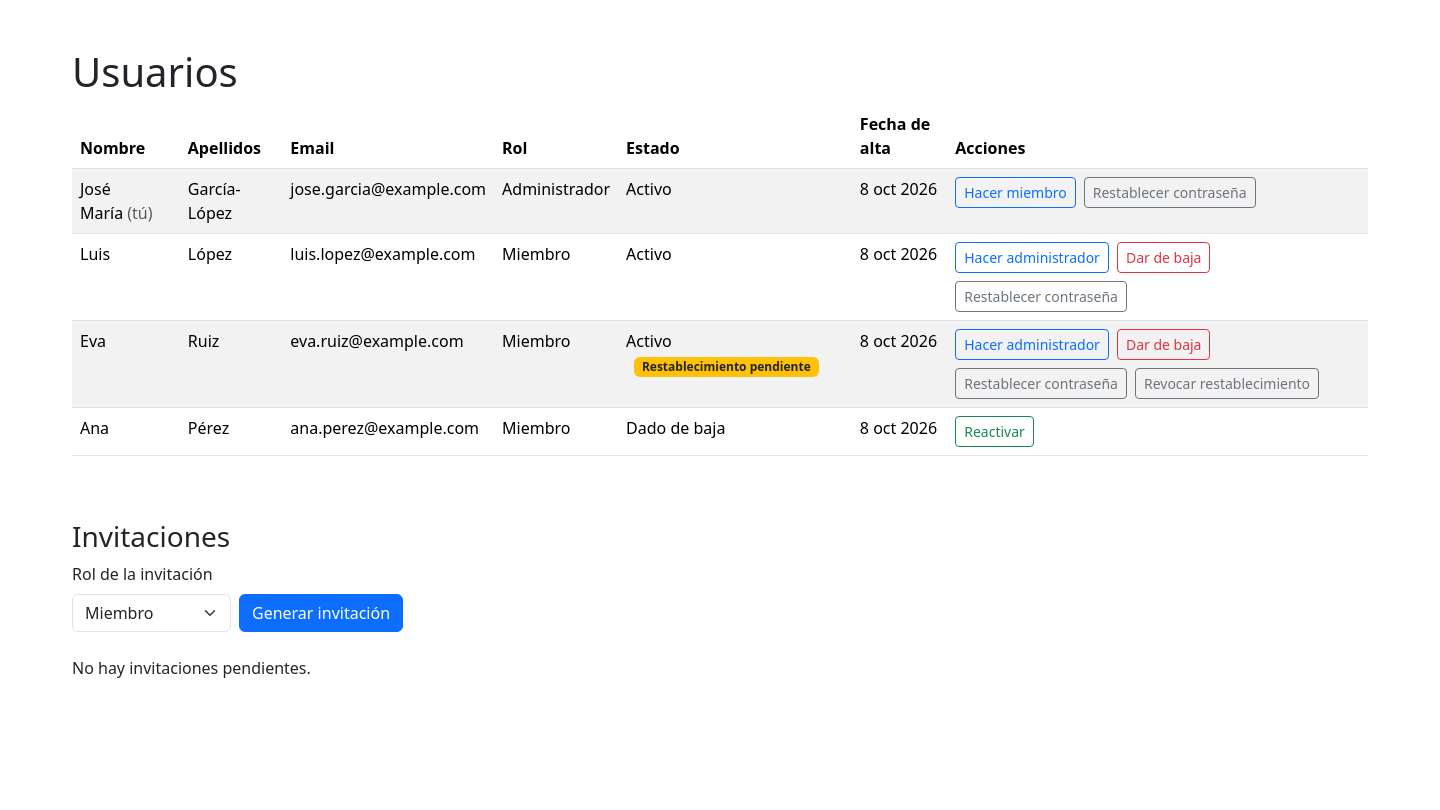
Test: UsersPage password reset › generating the link › warns and reloads the list for a 404, without emptying it
Click the 2nd button "Restablecer contraseña": (1041, 296) [955, 281, 1127, 312]
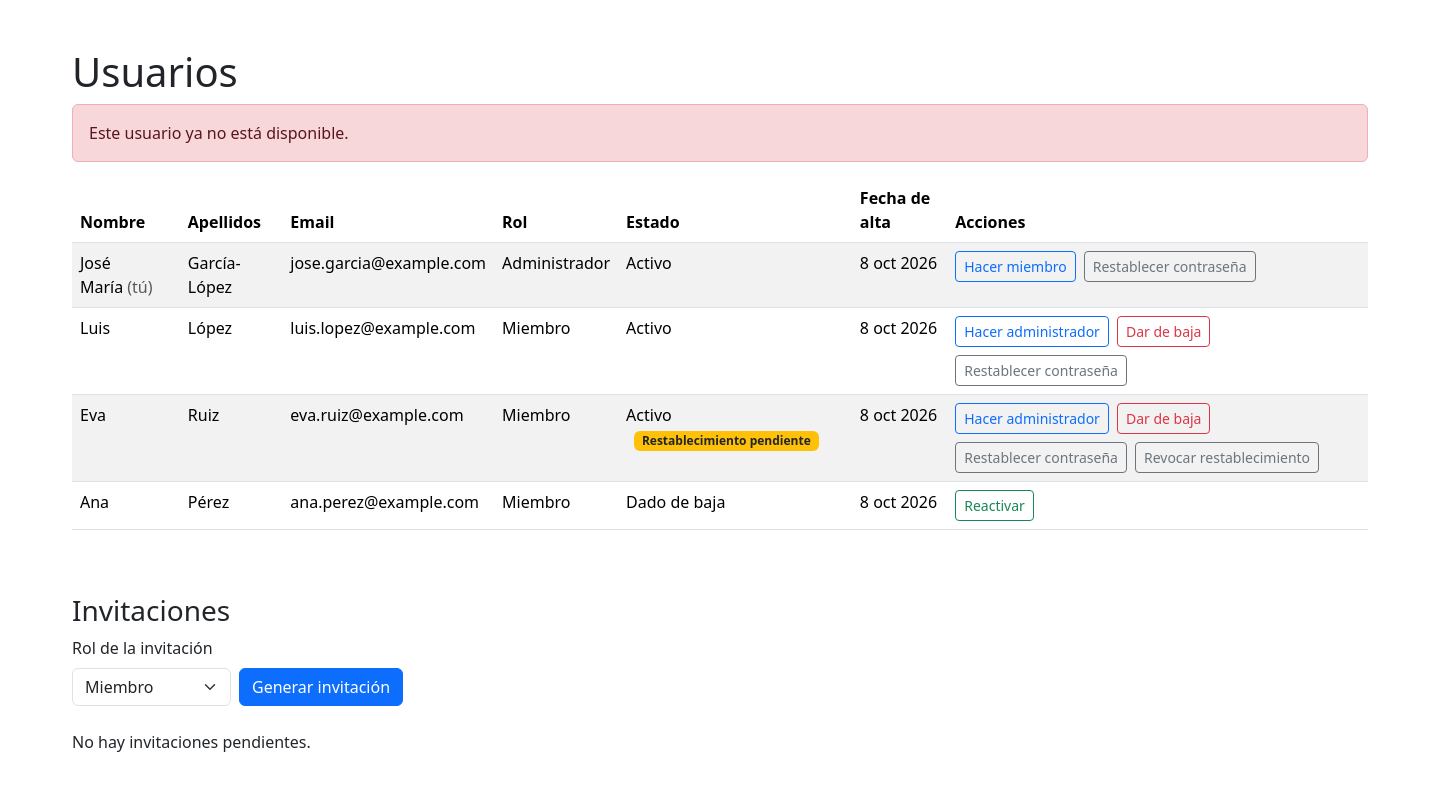
Check: the text "luis.lopez@example.com" is shown, box [290, 317, 476, 339]
Check: the message reads "Este usuario ya no está disponible.", box [89, 122, 349, 144]
